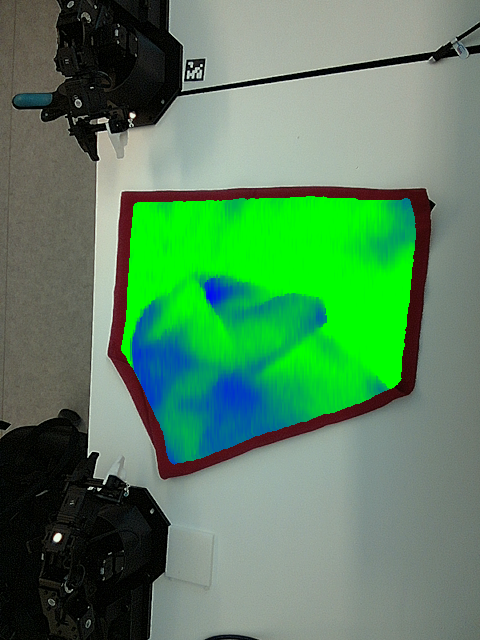V: (228, 335, 284, 381)
